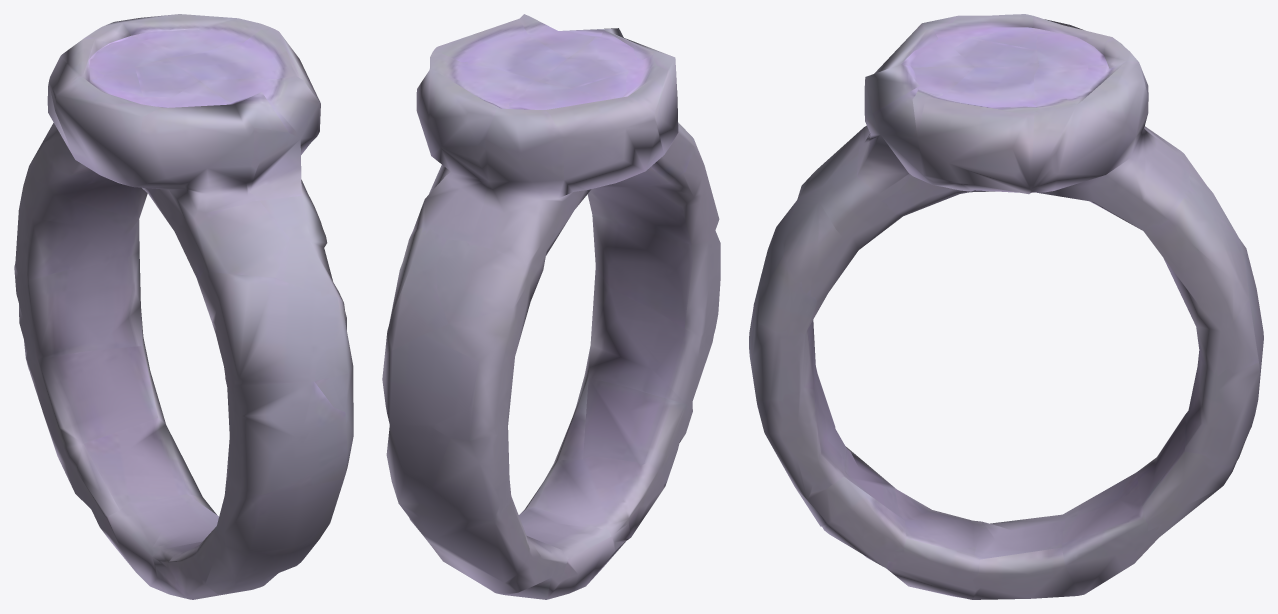
The model's file is uq_ring_mistmirror-0aff73P4.glb.
3 renders of one model, left to right at view 1: azimuth 30°, elevation 25°; view 2: azimuth 150°, elevation 25°; view 3: azimuth 270°, elevation 25°, orthographic. The views are drawn at different scales.
Parts seen in each view (by area): view 1: tripo_node_1f7a9838-e24e-49c7-a4aa-1e45a3c033a7; view 2: tripo_node_1f7a9838-e24e-49c7-a4aa-1e45a3c033a7; view 3: tripo_node_1f7a9838-e24e-49c7-a4aa-1e45a3c033a7.
Part boxes in pixels (x1,y1,x2,y2): tripo_node_1f7a9838-e24e-49c7-a4aa-1e45a3c033a7: (14, 14, 353, 599); tripo_node_1f7a9838-e24e-49c7-a4aa-1e45a3c033a7: (382, 14, 720, 599); tripo_node_1f7a9838-e24e-49c7-a4aa-1e45a3c033a7: (749, 14, 1263, 599).
Size of the model in its own units: 0.4796 by 1 by 0.8804.
Materials: 1 (1 with a texture image).
